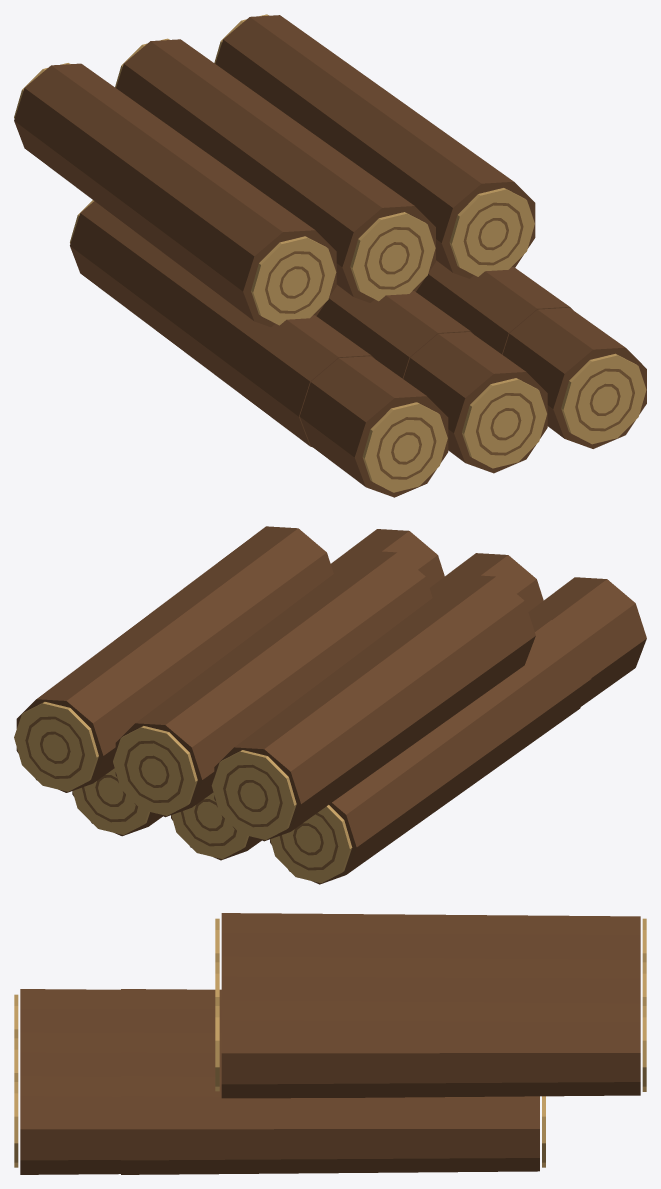
File: log-stack.glb
3 renders of one model, top to bottom at view 1: azimuth 30°, elevation 25°; view 2: azimuth 150°, elevation 25°; view 3: azimuth 270°, elevation 25°, orthographic. The views are drawn at different scales.
Parts seen in each view (by area): view 1: log-stack; view 2: log-stack; view 3: log-stack.
Boxes of the visible parts, <box> form: log-stack: <box>14,14,646,497</box>; log-stack: <box>14,526,646,884</box>; log-stack: <box>14,913,646,1174</box>.
Size of the model in its own units: 1.09 by 0.6545 by 2.27.
